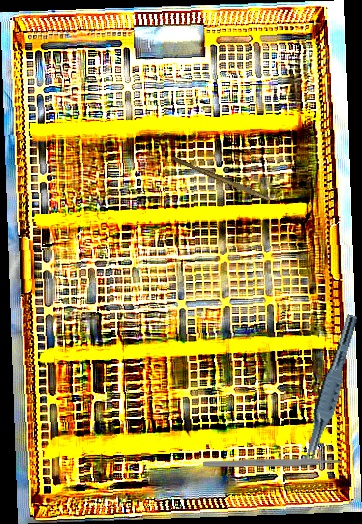Scalpel Handle: (170, 155, 272, 202), (202, 457, 343, 469)
Tissue Forceps: (298, 311, 360, 473)
